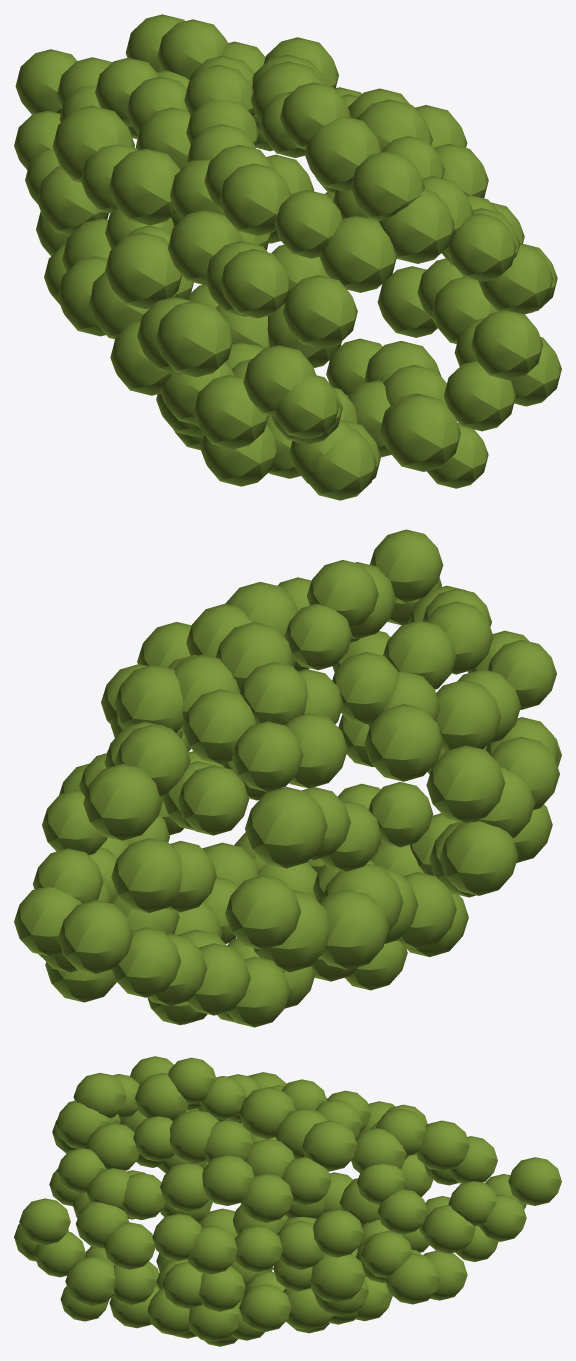
Rendered from berries.obj.
3 renders of one model, top to bottom at view 1: azimuth 30°, elevation 25°; view 2: azimuth 150°, elevation 25°; view 3: azimuth 270°, elevation 25°, orthographic. The views are drawn at different scales.
Parts seen in each view (by area): view 1: berries; view 2: berries; view 3: berries.
Part boxes in pixels (left/top/right/bottom): berries: left=14, top=14, right=561, bottom=500; berries: left=14, top=529, right=561, bottom=1027; berries: left=14, top=1056, right=561, bottom=1346.
Size of the model in its own units: 0.1037 by 0.1042 by 0.1908.
